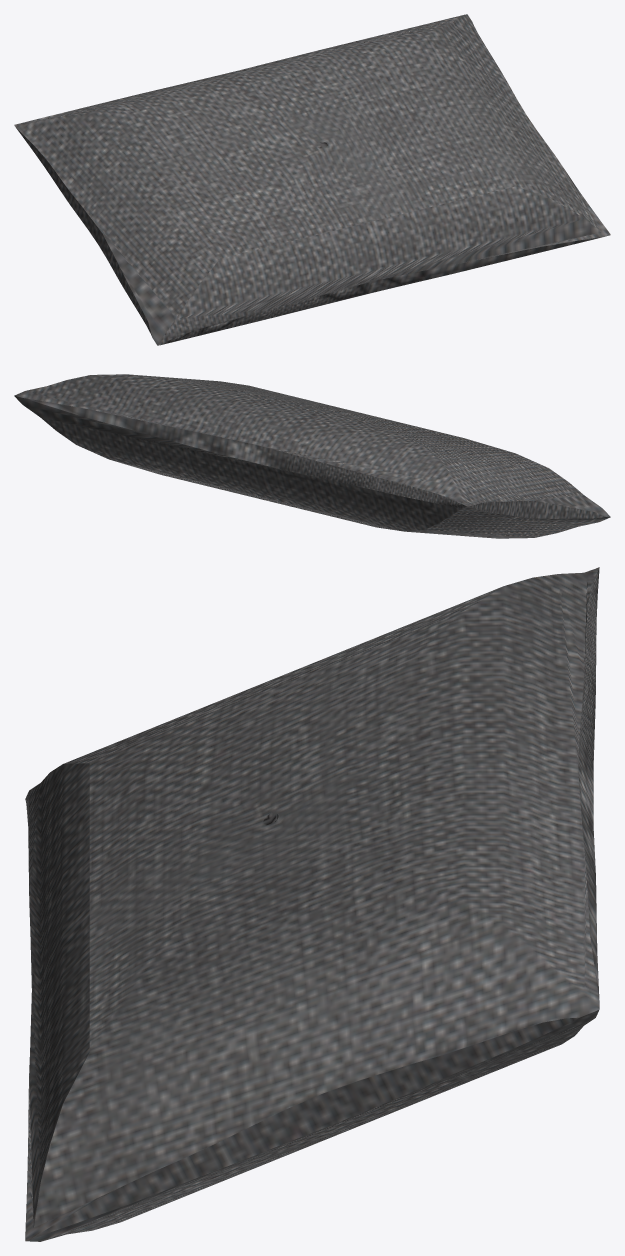
File: pillow3.glb
3 renders of one model, top to bottom at view 1: azimuth 30°, elevation 25°; view 2: azimuth 150°, elevation 25°; view 3: azimuth 270°, elevation 25°, orthographic. The views are drawn at different scales.
Visible parts, largest first — view 1: Pillow3; view 2: Pillow3; view 3: Pillow3.
Boxes of the visible parts, box(x1,y1,x2,y2) form: Pillow3: box(14, 14, 610, 345); Pillow3: box(14, 374, 610, 538); Pillow3: box(25, 567, 599, 1241).
Bounding box in the file's own units: 0.4148 × 0.1295 × 0.2274.
1 material, 1 textured.
